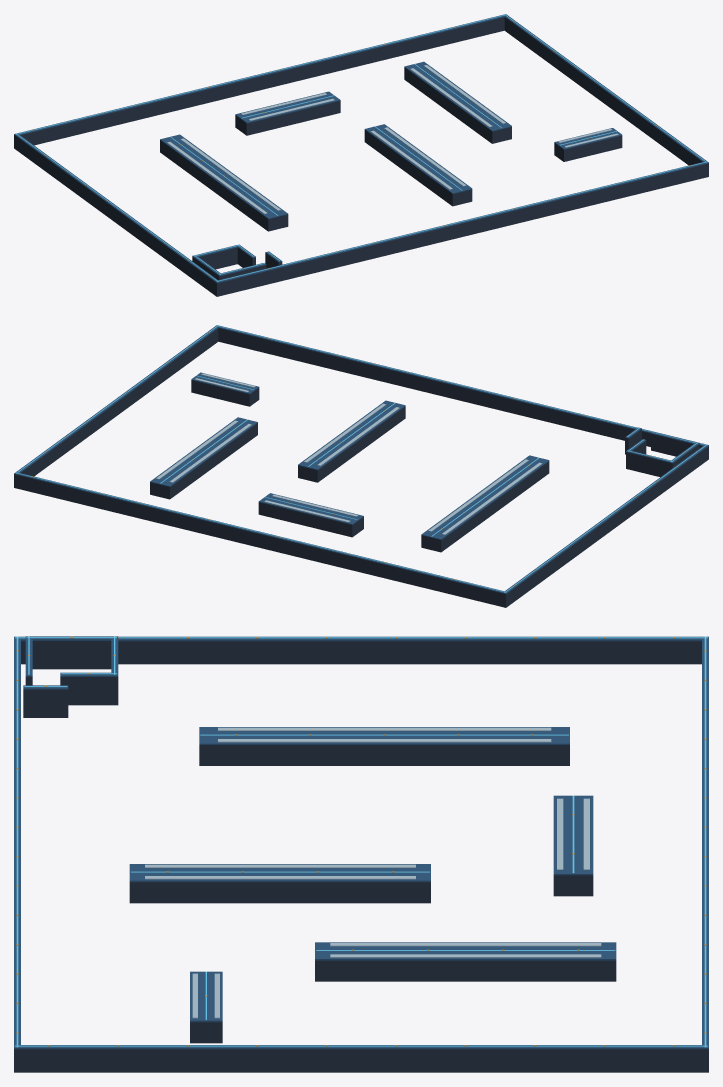
Rendered from campaign_triple_core.gltf.
The picture shows the model from 3 angles, top to bottom: view 1: azimuth 30°, elevation 25°; view 2: azimuth 150°, elevation 25°; view 3: azimuth 270°, elevation 25°; orthographic projection. The views are drawn at different scales.
Parts seen in each view (by area): view 1: SOLID 1 border, SOLID 0 border, SOLID 2 border, SOLID 3 border, SOLID crown 9 cover, SOLID crown 0 border, SOLID crown 1 border, SOLID 9 cover, SOLID crown 12 cover, SOLID crown 11 cover, SOLID 11 cover, SOLID 12 cover (+9 smaller); view 2: SOLID 0 border, SOLID 1 border, SOLID 2 border, SOLID 3 border, SOLID crown 9 cover, SOLID crown 0 border, SOLID 9 cover, SOLID crown 1 border, SOLID crown 12 cover, SOLID crown 11 cover, SOLID 11 cover, SOLID 12 cover (+10 smaller); view 3: SOLID 3 border, SOLID 2 border, SOLID 9 cover, Armor shoulder (×6), SOLID 11 cover, SOLID 12 cover, SOLID crown 9 cover, SOLID crown 11 cover, SOLID crown 12 cover, SOLID crown 2 border, SOLID crown 3 border, SOLID crown 0 border (+13 smaller).
Part boxes in pixels (left/top/right/bottom): SOLID 1 border: left=215, top=163, right=708, bottom=296; SOLID 0 border: left=14, top=17, right=504, bottom=149; SOLID 2 border: left=14, top=135, right=220, bottom=296; SOLID 3 border: left=504, top=17, right=708, bottom=177; SOLID crown 9 cover: left=160, top=134, right=288, bottom=219; SOLID crown 0 border: left=14, top=14, right=507, bottom=135; SOLID crown 1 border: left=215, top=162, right=708, bottom=283; SOLID 9 cover: left=160, top=140, right=288, bottom=231; SOLID crown 12 cover: left=404, top=61, right=511, bottom=131; SOLID crown 11 cover: left=364, top=124, right=472, bottom=193; SOLID 11 cover: left=364, top=130, right=472, bottom=206; SOLID 12 cover: left=404, top=67, right=511, bottom=143; SOLID 0 border: left=14, top=474, right=507, bottom=607; SOLID 1 border: left=218, top=328, right=701, bottom=447; SOLID 2 border: left=502, top=446, right=708, bottom=607; SOLID 3 border: left=14, top=328, right=218, bottom=487; SOLID crown 9 cover: left=421, top=455, right=549, bottom=539; SOLID crown 0 border: left=14, top=473, right=507, bottom=594; SOLID 9 cover: left=421, top=461, right=549, bottom=552; SOLID crown 1 border: left=215, top=325, right=707, bottom=446; SOLID crown 12 cover: left=150, top=417, right=257, bottom=487; SOLID crown 11 cover: left=298, top=400, right=405, bottom=470; SOLID 11 cover: left=298, top=406, right=405, bottom=482; SOLID 12 cover: left=150, top=423, right=257, bottom=499; SOLID 3 border: left=14, top=1049, right=708, bottom=1072; SOLID 2 border: left=21, top=641, right=701, bottom=664; SOLID 9 cover: left=199, top=745, right=569, bottom=765; Armor shoulder (×6): left=145, top=727, right=601, bottom=957; SOLID 11 cover: left=129, top=882, right=430, bottom=903; SOLID 12 cover: left=315, top=960, right=616, bottom=981; SOLID crown 9 cover: left=199, top=727, right=569, bottom=744; SOLID crown 11 cover: left=129, top=864, right=430, bottom=882; SOLID crown 12 cover: left=315, top=942, right=616, bottom=960; SOLID crown 2 border: left=14, top=636, right=707, bottom=641; SOLID crown 3 border: left=14, top=1045, right=708, bottom=1049; SOLID crown 0 border: left=702, top=636, right=708, bottom=1049.
Size of the model in its own units: 42 by 1.45 by 30.
